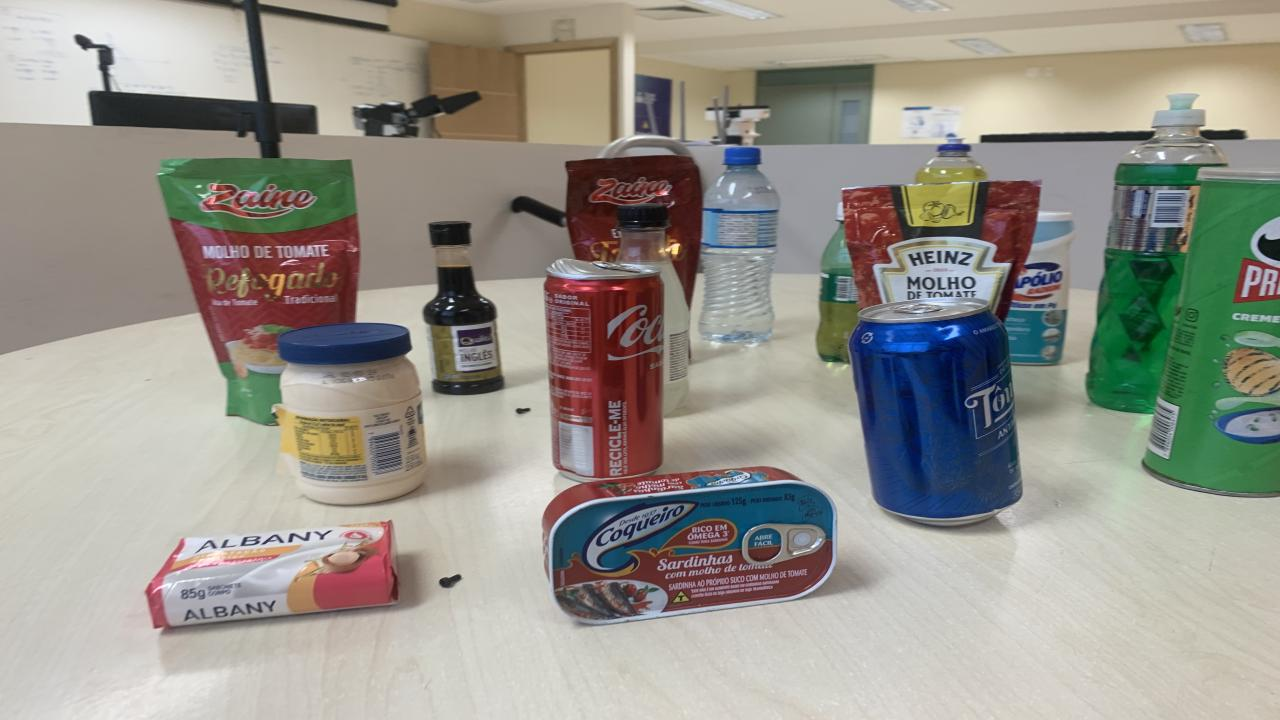Cleaner-Cleanup_Items: (1005, 212, 1075, 366)
Coke-Drinks: (545, 261, 662, 480)
Detergent-Cleanup_Items: (1085, 94, 1228, 412), (915, 135, 988, 184)
English_Sauce-Pantry_Items: (422, 221, 502, 394)
Guarana-Drinks: (815, 204, 858, 362)
Mayonnaise-Pantry_Items: (275, 322, 428, 504)
Pringles-Snacks: (1142, 169, 1280, 495)
Soap-Cleanup_Items: (148, 521, 398, 626)
Soda-Drinks: (618, 202, 690, 414)
Tomato_Sauce-Pantry_Items: (158, 158, 360, 424), (842, 180, 1040, 321), (565, 154, 702, 302)
Tonic-Drinks: (850, 298, 1022, 525)
Tuna_Can-Pantry_Items: (542, 467, 838, 624)
Water_Bottle-Drinks: (700, 146, 780, 343)
